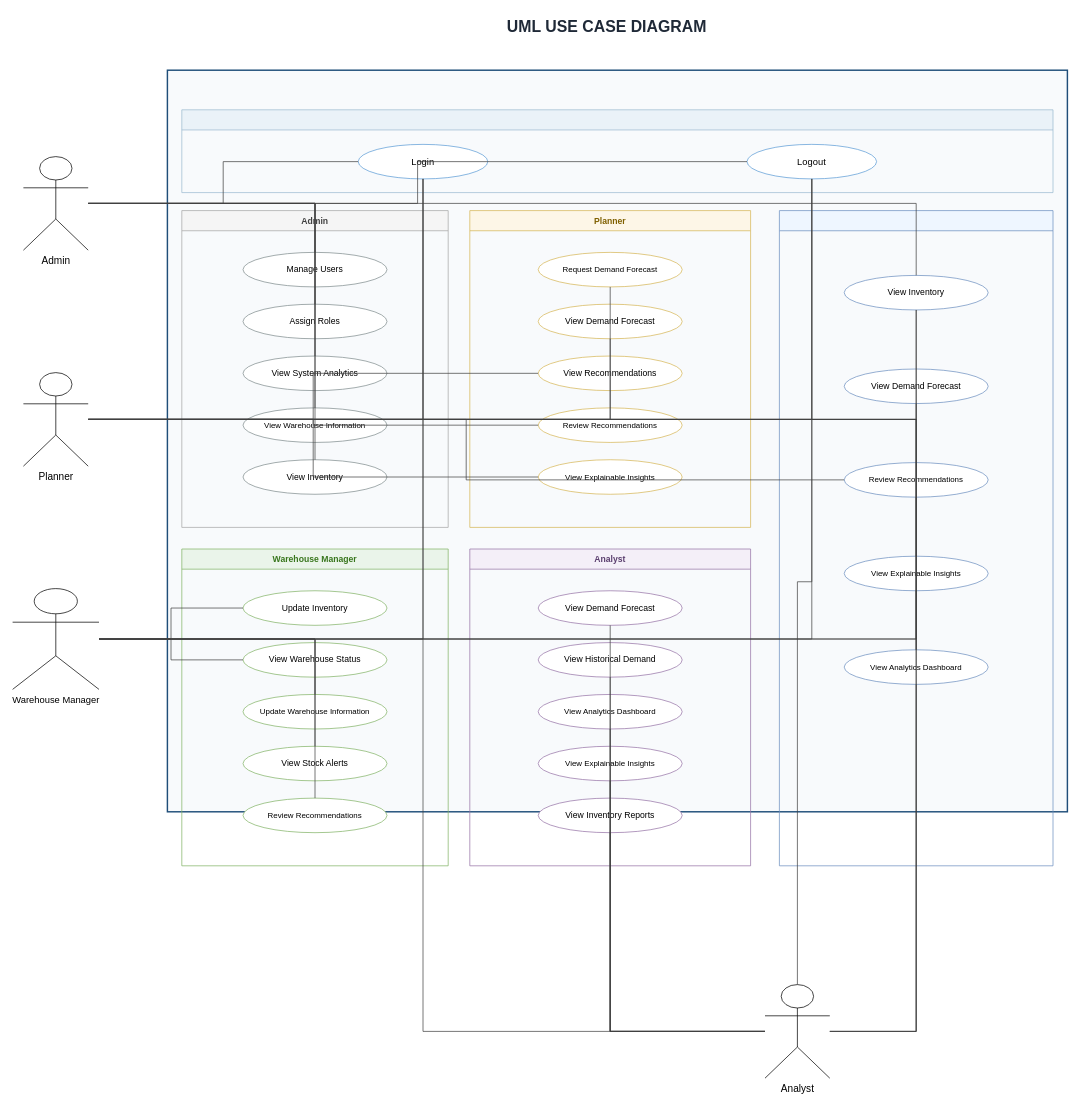
Some shapes in this 1081 by 1107 pixel diagram are drawn without their labels. The shapes that lost their labels are listed below. From the top down, each one's box as (x1, y1, x2, y2) in pixels, then its label:
(181, 109, 1053, 193): Authentication
(166, 69, 1068, 812): Intelligent Supply Chain and Logistics Decision Support Platform
(779, 210, 1053, 866): Shared Platform Capabilities
